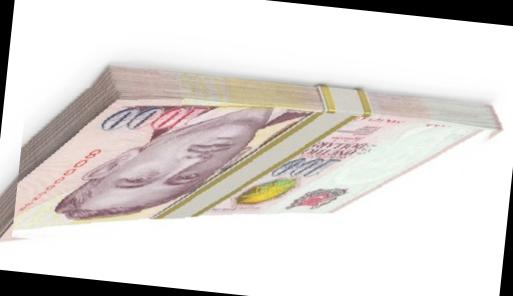1000SingaporeDollar: (11, 82, 494, 288)
